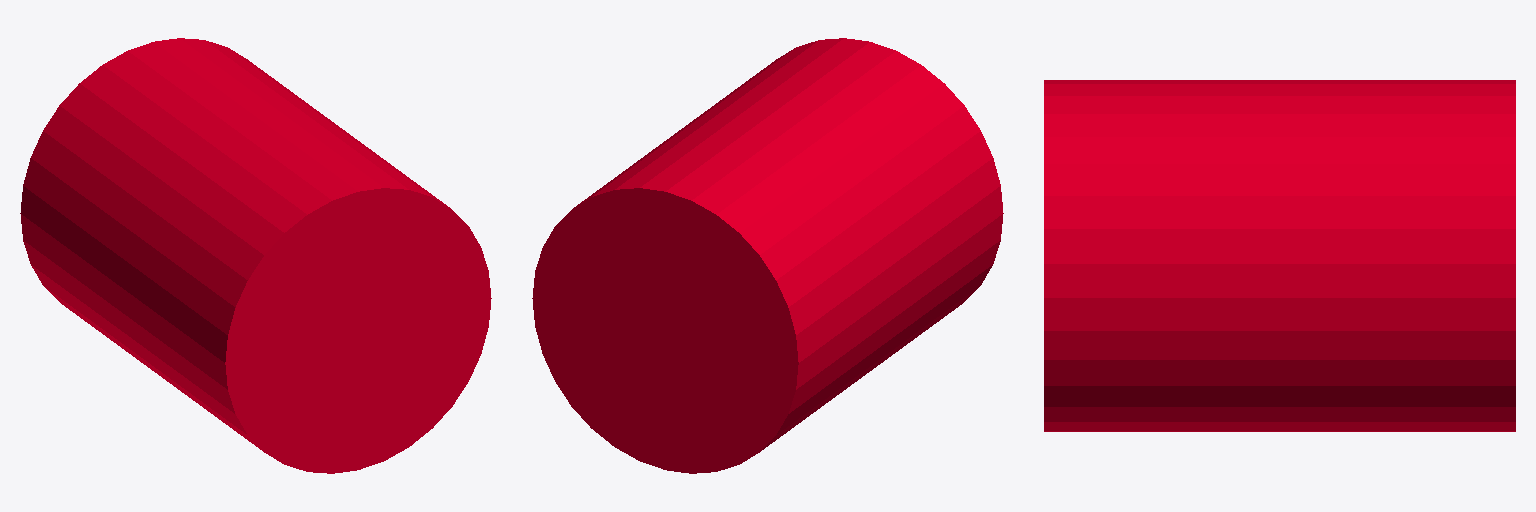
URDF robot description (cylinder.urdf):
<?xml version="1.0" ?>
<robot name="cylinder.urdf">

  <link name="cylinder">
    <contact>
    	<friction_anchor/>
    	   <lateral_friction value="1.0"/>
    </contact>
    <inertial>
      <origin rpy="0 0 0" xyz="0 0 0"/>
       <mass value=".1"/>
       <inertia ixx="1" ixy="0" ixz="0" iyy="1" iyz="0" izz="1"/>
    </inertial>
    <visual>
      <origin rpy="0 0 0" xyz="0 0 0"/>
      <geometry>
				<mesh filename="cylinder.obj" scale="1.0 1.0 1.0"/>
      </geometry>
       <material name="red">
        <color rgba="0.9 0 0.2 1.0"/>
      </material>
    </visual>
    <collision>
      <origin rpy="0 0 0" xyz="0 0 0"/>
      <geometry>
				<mesh filename="cylinder.obj" scale="1.0 1.0 1.0"/>
      </geometry>
    </collision>
  </link>


</robot>

--- What the picture shows (computed from the rendered views, not written in the file) ---
The picture shows the robot from 3 angles, left to right: view 1: azimuth 30°, elevation 25°; view 2: azimuth 150°, elevation 25°; view 3: azimuth 270°, elevation 25°; orthographic projection.
Model cylinder.urdf with 1 links and 0 joints (none), rooted at cylinder, posed every joint at zero.
Links seen in each view (by area): view 1: cylinder; view 2: cylinder; view 3: cylinder.
Link boxes in pixels (x1,y1,x2,y2): cylinder: [20, 38, 491, 473]; cylinder: [532, 38, 1003, 473]; cylinder: [1044, 80, 1515, 431].
Size in the robot's own frame: 0.075 by 0.1 by 0.075 metres.
Meshes: 1 distinct files referenced, 1 mesh visuals loaded (1 OBJ).